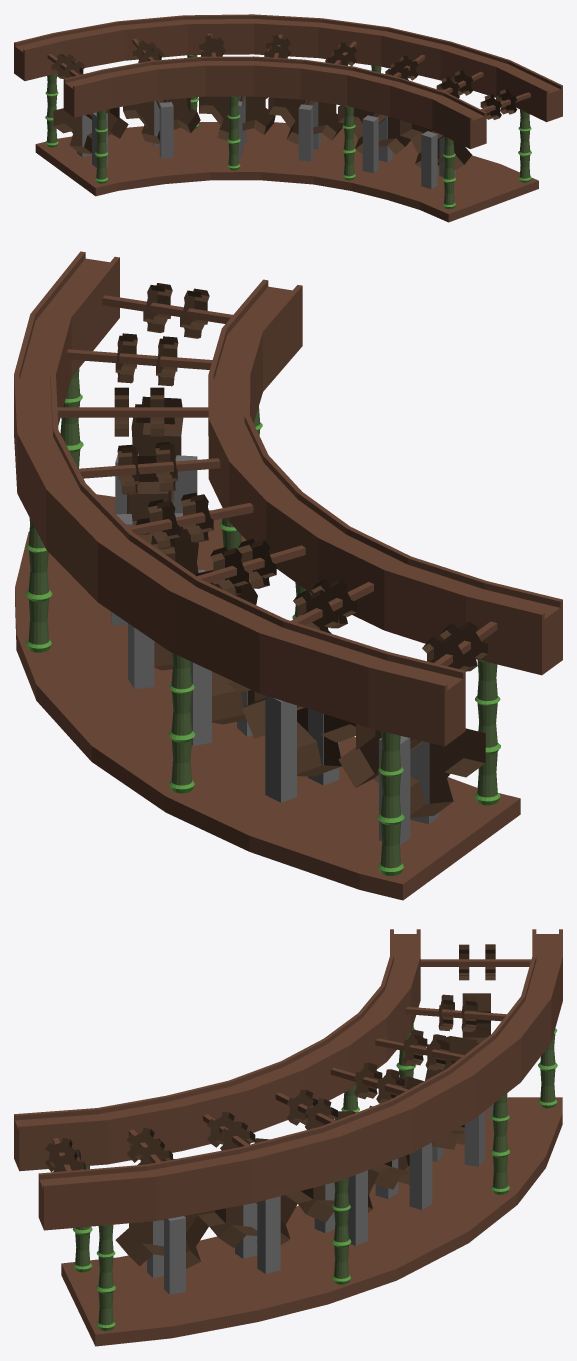
File: rail avec Bambou droit 1 num 2.fbx
The picture shows the model from 3 angles, top to bottom: view 1: azimuth 30°, elevation 25°; view 2: azimuth 150°, elevation 25°; view 3: azimuth 270°, elevation 25°; orthographic projection. The views are drawn at different scales.
Visible parts, largest first — view 1: rail droite 1, planche en bois qui soutien.002, gros rouage.004, gros rouage.005, gros rouage.003, gros rouage.001, gros rouage.010, gros rouage.011, planche soutien rouage.021, planche soutien rouage.022, planche soutien rouage.014, planche soutien rouage.017 (+14 smaller); view 2: rail droite 1, planche en bois qui soutien.002, gros rouage.001, planche soutien rouage.007, gros rouage.003, bambou.024, bambou.029, bambou.025, bambou.028, gros rouage.004, gros rouage.011, attache roue.034 (+28 smaller); view 3: rail droite 1, planche en bois qui soutien.002, gros rouage.011, gros rouage.010, planche soutien rouage.024, planche soutien rouage.023, bambou.027, bambou.028, bambou.029, planche soutien rouage.010, planche soutien rouage.013, gros rouage.005 (+22 smaller).
Boxes of the visible parts, x1,y1,x2,y2 form: rail droite 1: (14, 14, 562, 149); planche en bois qui soutien.002: (35, 122, 538, 222); gros rouage.004: (199, 96, 275, 140); gros rouage.005: (268, 97, 343, 144); gros rouage.003: (123, 97, 200, 144); gros rouage.001: (53, 107, 128, 153); gros rouage.010: (338, 105, 410, 154); gros rouage.011: (400, 120, 471, 170); planche soutien rouage.021: (362, 115, 378, 173); planche soutien rouage.022: (421, 131, 437, 189); planche soutien rouage.014: (298, 104, 313, 161); planche soutien rouage.017: (159, 102, 173, 158); rail droite 1: (14, 251, 562, 746); planche en bois qui soutien.002: (15, 494, 520, 900); gros rouage.001: (338, 724, 485, 817); planche soutien rouage.007: (265, 695, 296, 802); gros rouage.003: (242, 631, 355, 776); bambou.024: (377, 731, 404, 875); bambou.029: (168, 653, 195, 793); bambou.025: (474, 660, 500, 805); bambou.028: (25, 518, 52, 652); gros rouage.004: (194, 570, 257, 724); gros rouage.011: (127, 396, 183, 513); attache roue.034: (57, 407, 208, 417); rail droite 1: (14, 929, 562, 1230); planche en bois qui soutien.002: (61, 1097, 562, 1346); gros rouage.011: (115, 1158, 225, 1268); gros rouage.010: (209, 1138, 313, 1247); planche soutien rouage.024: (257, 1196, 280, 1273); planche soutien rouage.023: (164, 1216, 185, 1294); bambou.027: (96, 1224, 115, 1330); bambou.028: (331, 1177, 351, 1284); bambou.029: (490, 1093, 510, 1194); planche soutien rouage.010: (409, 1142, 432, 1209); planche soutien rouage.013: (348, 1170, 367, 1245); gros rouage.005: (298, 1111, 391, 1222).
Bounding box in the file's own units: 1543 × 464 × 1394.
